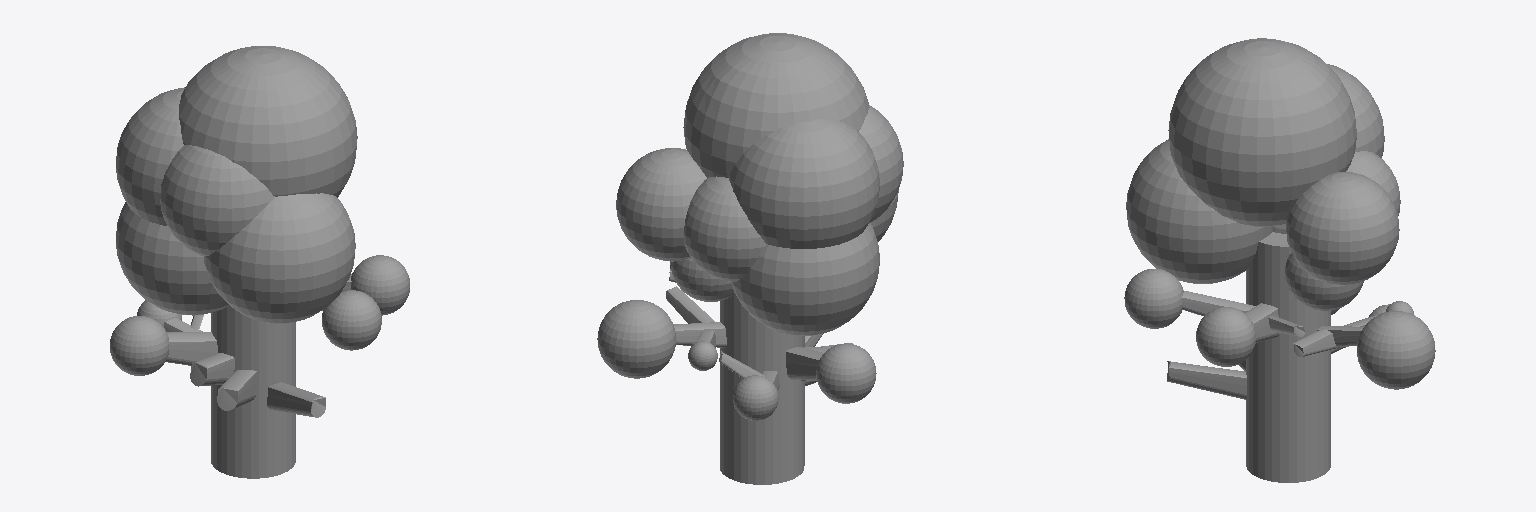
File: ClimbingTree2.obj
3 views of the same model, side by side, from view 1: azimuth 30°, elevation 25°; view 2: azimuth 150°, elevation 25°; view 3: azimuth 270°, elevation 25° (orthographic).
Visible parts, largest first — view 1: Cylinder; view 2: Cylinder; view 3: Cylinder.
Part boxes in pixels (x1,y1,x2,y2): Cylinder: (110, 46, 409, 478); Cylinder: (597, 33, 903, 484); Cylinder: (1124, 38, 1435, 482).
Bounding box in the file's own units: 16.08 × 25.94 × 17.56.